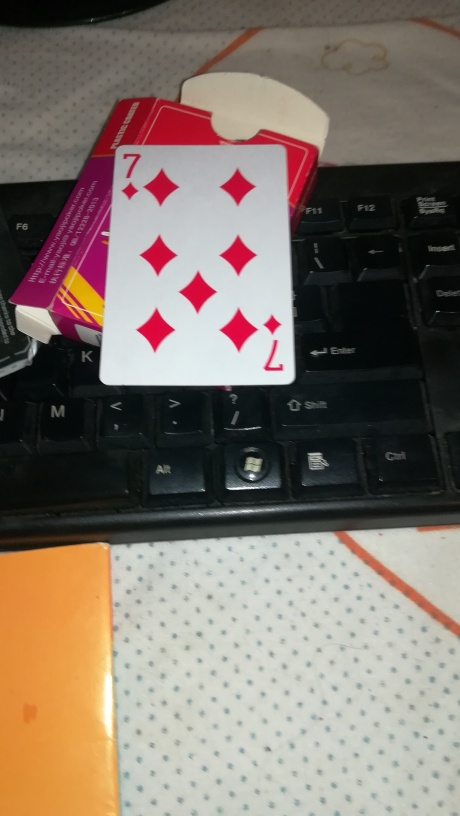fk 7: (100, 143, 296, 384)
